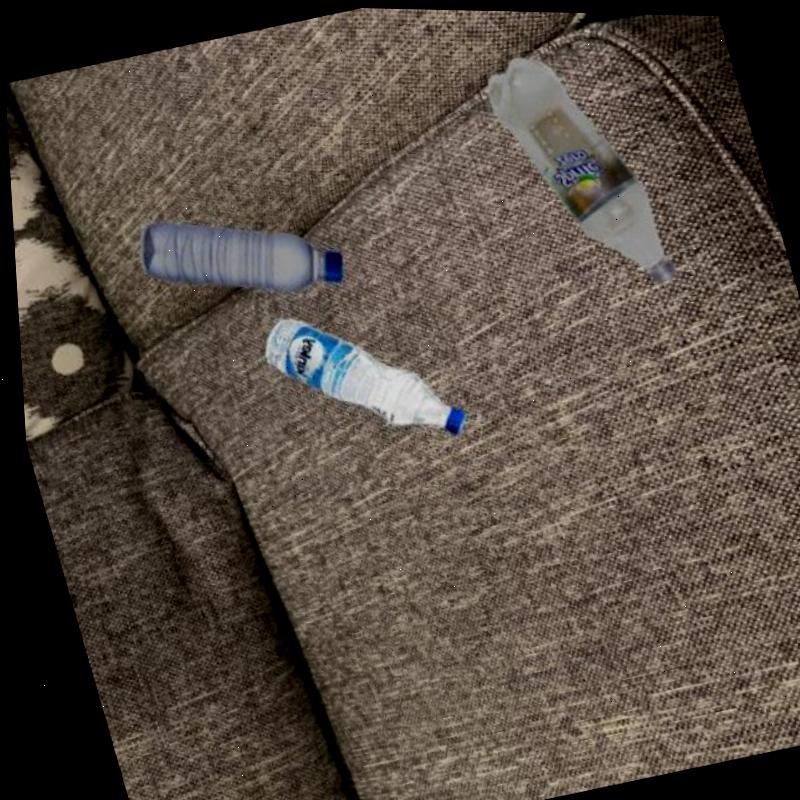botella: (473, 27, 681, 310), (246, 280, 466, 469), (126, 181, 353, 327)
